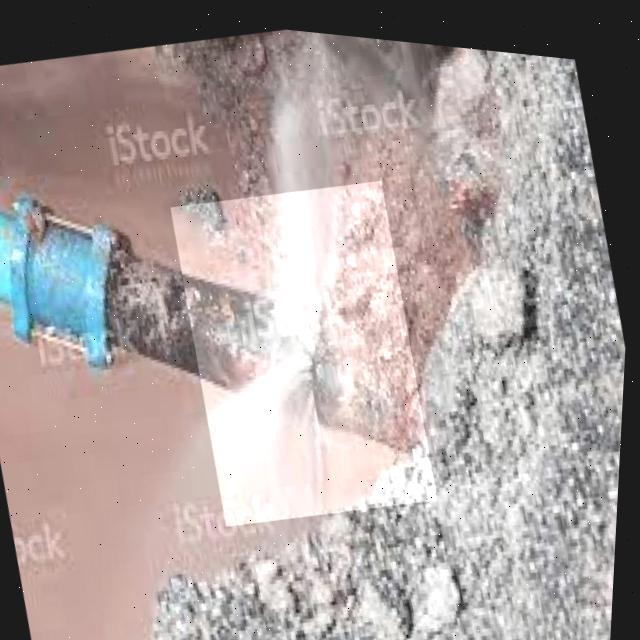corrosion: (201, 217, 374, 465)
